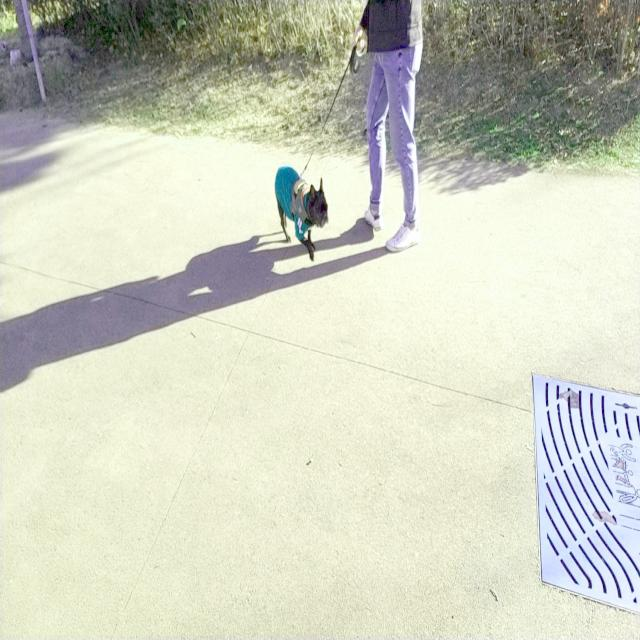Leashed_Dog: (275, 28, 418, 262)
